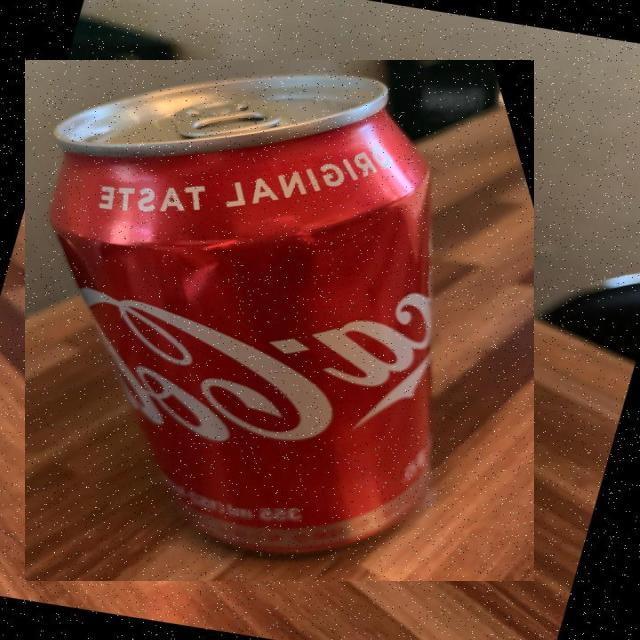coca-cola: (25, 60, 534, 581)
